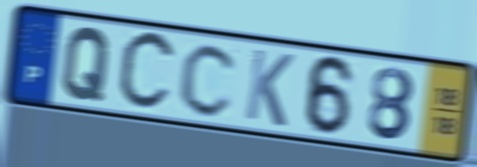6: (303, 52, 357, 139)
8: (367, 65, 416, 143)
C: (114, 28, 180, 116), (176, 40, 241, 120)
K: (242, 45, 297, 131)
Q: (59, 25, 114, 105)
